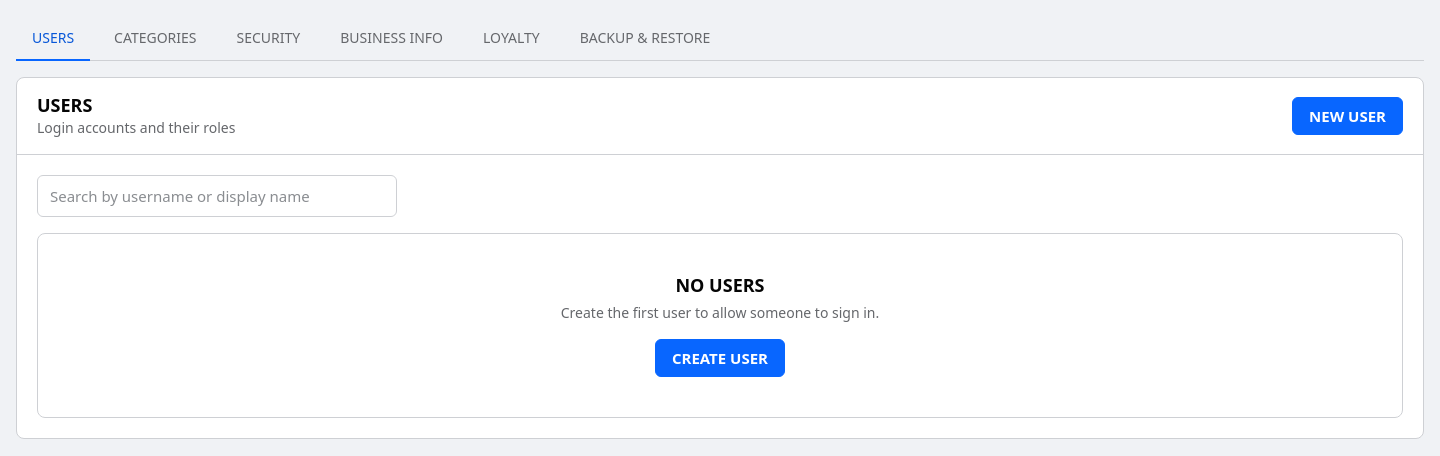
Test case: SettingsPage › switches to the Security tab
The width and height of the screenshot is (1440, 456).
Click the tab "Security": point(268, 38) top-left (220, 16), bottom-right (316, 61)
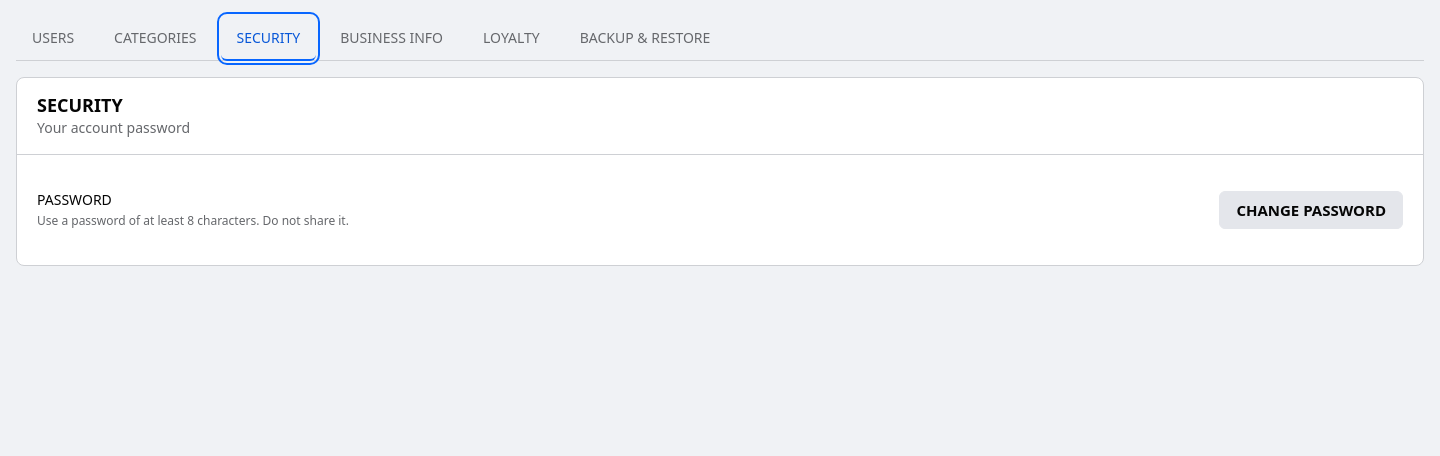
Check: the button "Change password" is shown, box top-left (1219, 191), bottom-right (1403, 229)
